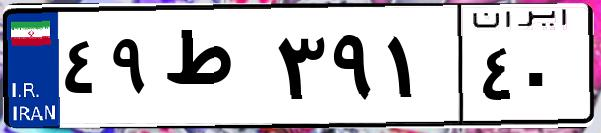0: (525, 38, 570, 115)
1: (385, 28, 445, 110)
3: (270, 28, 330, 110)
4: (57, 26, 110, 100), (475, 38, 525, 113)
9: (330, 28, 385, 110), (110, 28, 158, 98)
ط: (158, 20, 270, 120)
